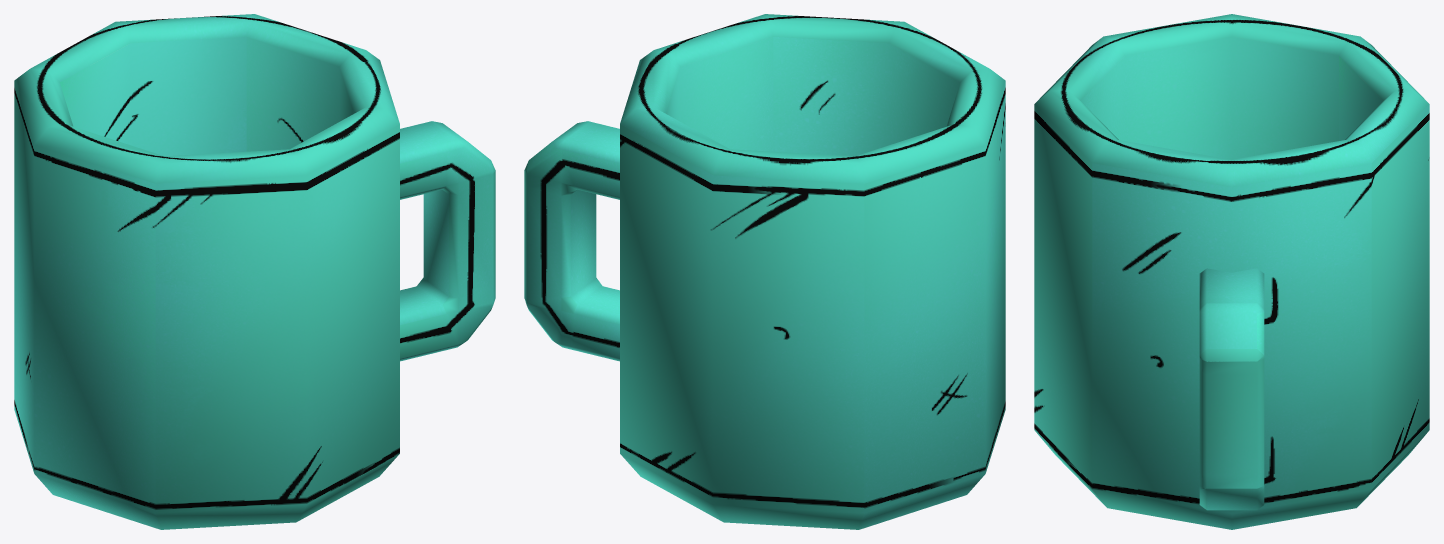
The model's file is Mug.glb.
3 views of the same model, side by side, from view 1: azimuth 30°, elevation 25°; view 2: azimuth 150°, elevation 25°; view 3: azimuth 270°, elevation 25° (orthographic).
Visible parts, largest first — view 1: Mug; view 2: Mug; view 3: Mug.
Part boxes in pixels (x1=…): Mug: x1=14, y1=14, x2=495, y2=529; Mug: x1=524, y1=14, x2=1005, y2=529; Mug: x1=1034, y1=14, x2=1429, y2=529.
Size of the model in its own units: 0.6799 by 0.5433 by 0.5241.
Materials: 1 (1 with a texture image).
